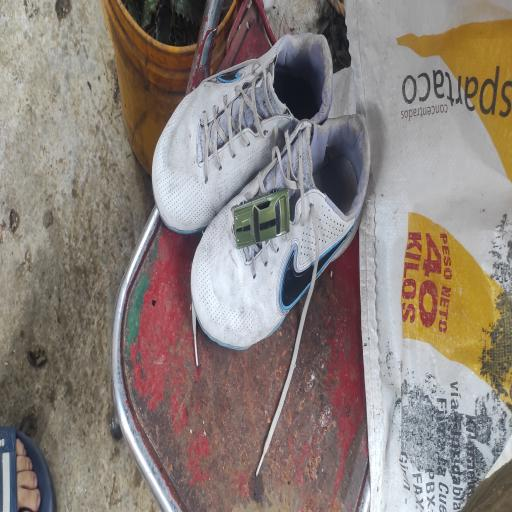Carrito: (233, 190, 289, 249)
